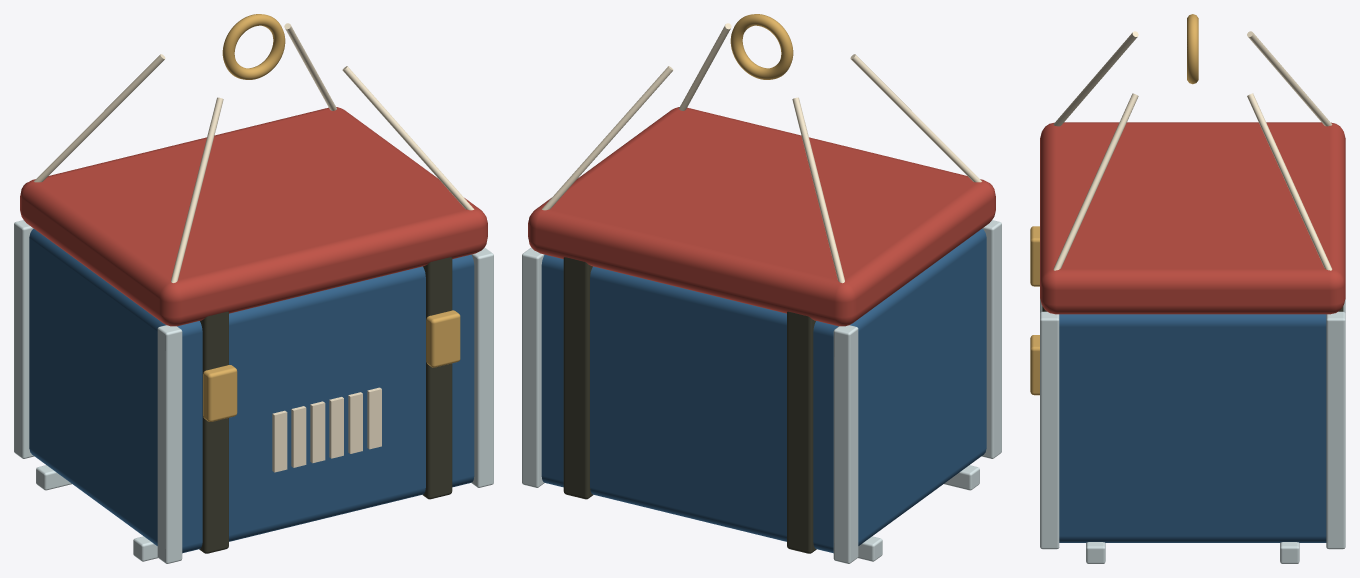
Rendered from pubg.glb.
The picture shows the model from 3 angles, left to right: view 1: azimuth 30°, elevation 25°; view 2: azimuth 150°, elevation 25°; view 3: azimuth 270°, elevation 25°; orthographic projection.
Visible parts, largest first — view 1: Supply crate, Canvas cover, Edge protector (×3), Cargo strap (×2), Cargo stencil (×6), Rigging (×4), Strap buckle (×2), Lift eye; view 2: Supply crate, Canvas cover, Edge protector (×3), Cargo strap (×2), Rigging (×4), Lift eye; view 3: Supply crate, Canvas cover, Edge protector (×2), Rigging (×4), Strap buckle (×2), Base rail (×2), Lift eye.
Part boxes in pixels (x1,y1,x2,y2): Supply crate: (29, 228, 474, 553); Canvas cover: (20, 107, 487, 326); Edge protector (×3): (14, 220, 493, 563); Cargo strap (×2): (199, 257, 452, 553); Cargo stencil (×6): (272, 387, 381, 472); Rigging (×4): (34, 23, 474, 282); Strap buckle (×2): (203, 310, 460, 421); Lift eye: (222, 14, 285, 79); Supply crate: (541, 228, 986, 553); Canvas cover: (528, 107, 995, 326); Edge protector (×3): (522, 220, 1001, 563); Cargo strap (×2): (563, 257, 816, 553); Rigging (×4): (542, 23, 981, 283); Lift eye: (730, 14, 793, 79); Supply crate: (1059, 314, 1326, 542); Canvas cover: (1040, 122, 1345, 314); Edge protector (×2): (1040, 311, 1345, 549); Rigging (×4): (1053, 31, 1332, 270); Strap buckle (×2): (1030, 226, 1039, 395); Base rail (×2): (1086, 542, 1299, 563); Lift eye: (1187, 14, 1198, 84).
Size of the model in its own units: 1.57 by 2.12 by 1.3.
